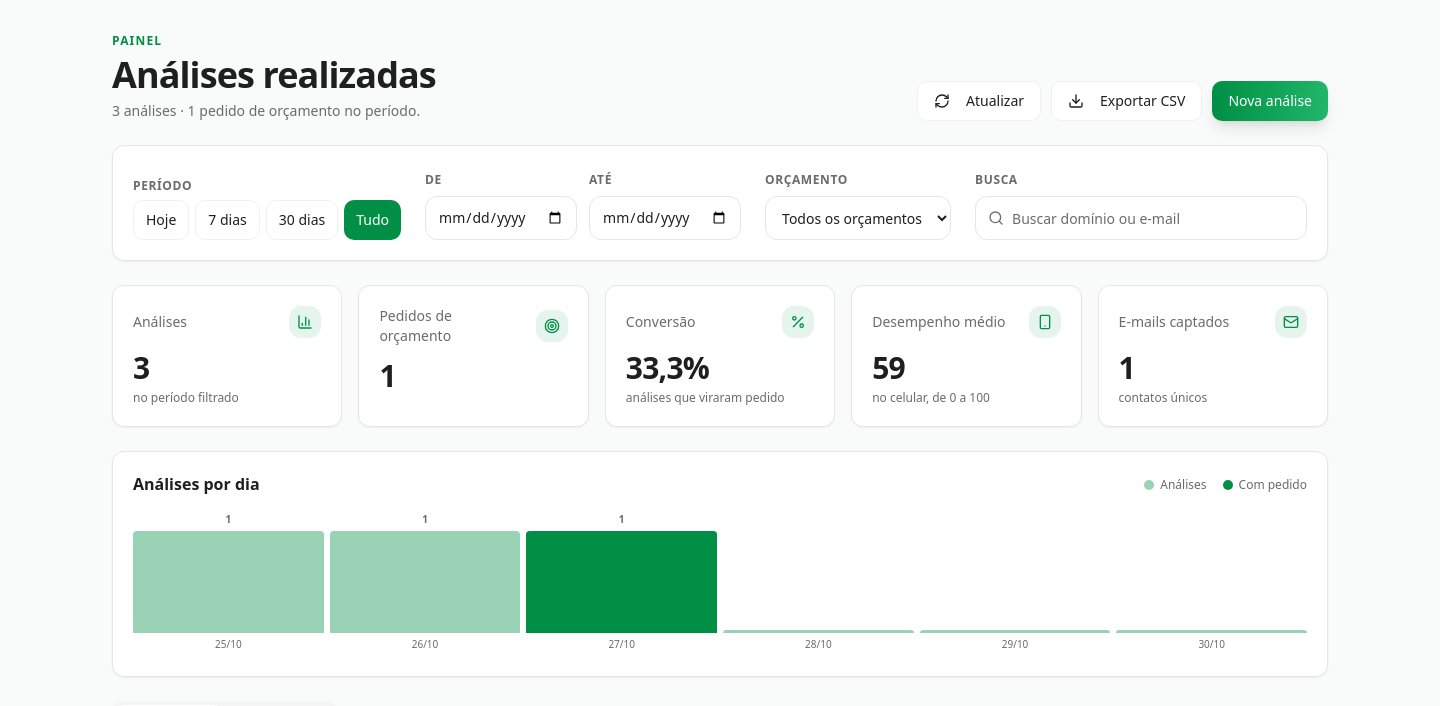
Agency admin area › filters by quote status and clears the filters
Select "Abriu o formulário" in the dropdown named "Filtrar por orçamento" at (858, 218), box [765, 196, 951, 240]
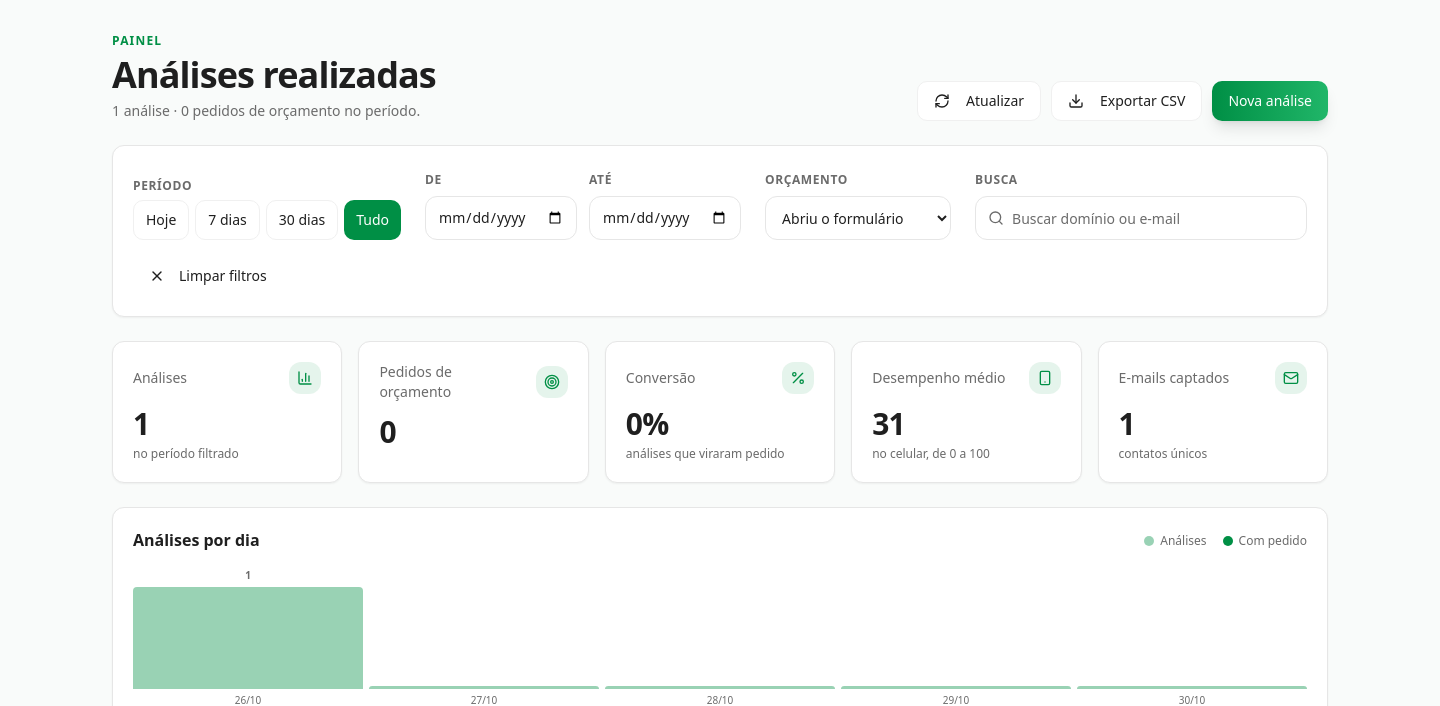
Click the button "Limpar filtros" at (208, 276), box [133, 256, 283, 296]
(page scrolled)
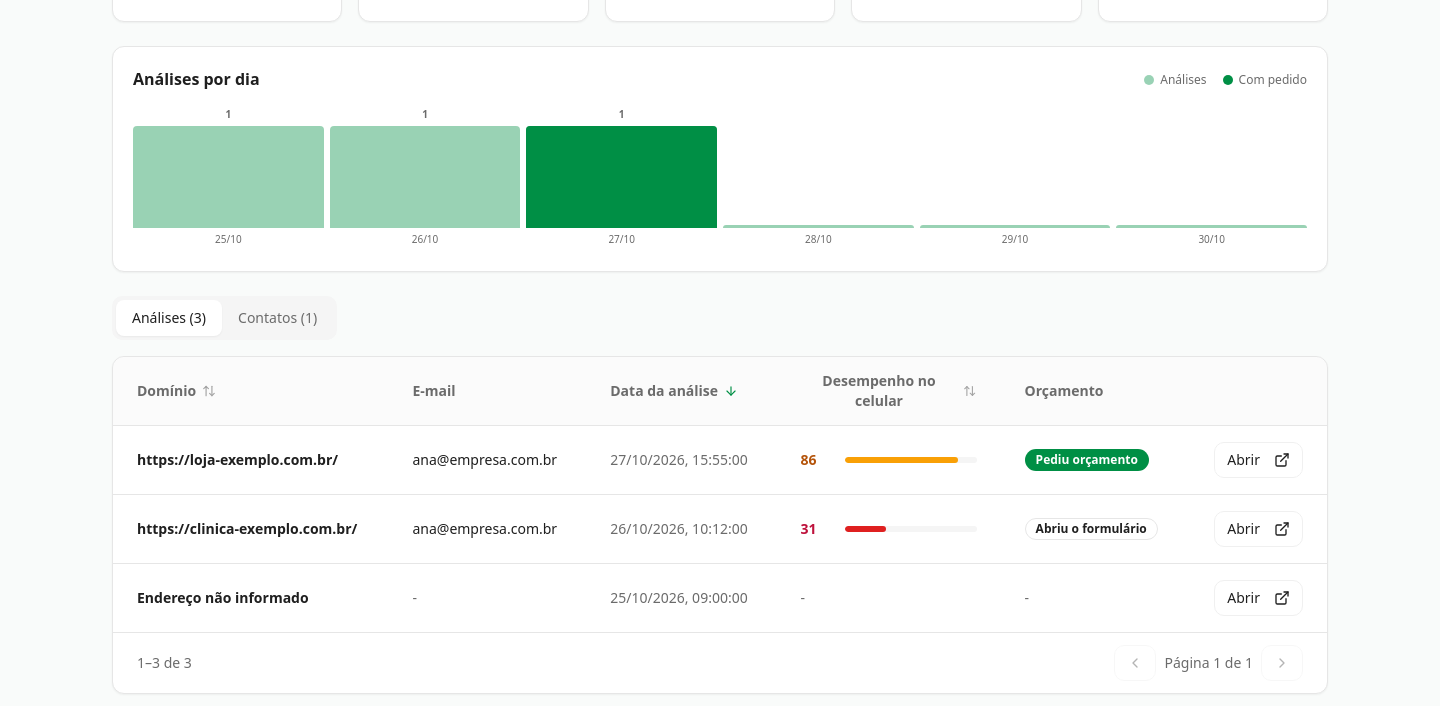
Now the text "https://loja-exemplo.com.br/" is shown, box [113, 426, 388, 494]
